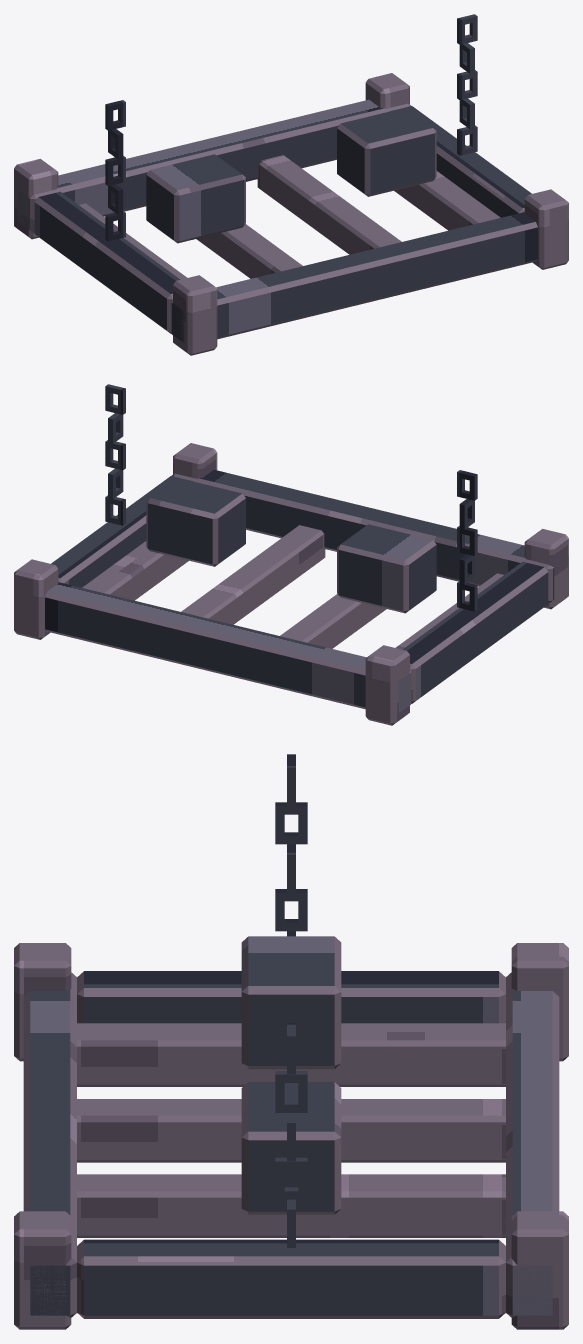
File: placed_uv_panel_4_lit_body.obj
3 renders of one model, top to bottom at view 1: azimuth 30°, elevation 25°; view 2: azimuth 150°, elevation 25°; view 3: azimuth 270°, elevation 25°, orthographic. The views are drawn at different scales.
Parts seen in each view (by area): view 1: model; view 2: model; view 3: model.
Part boxes in pixels (x1,y1,x2,y2): model: (14,14,568,355); model: (14,384,568,725); model: (14,754,568,1329).
Bounding box in the file's own units: 1.12 × 0.5344 × 0.9062.
